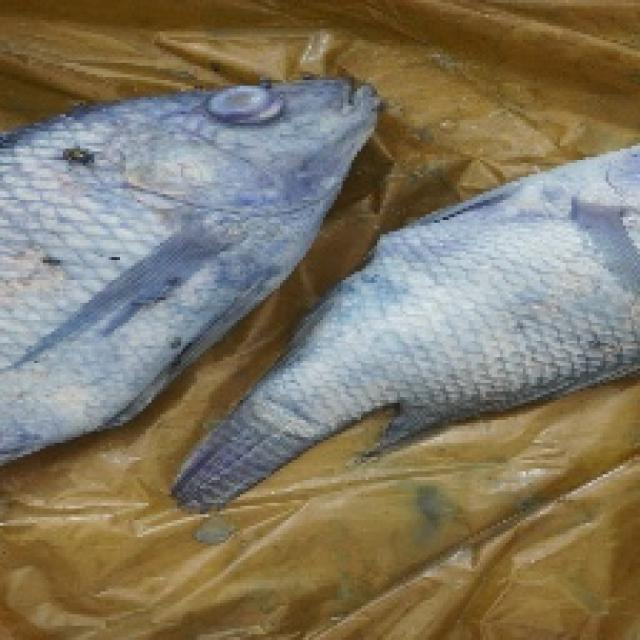Non-Fresh: (0, 48, 369, 311)
